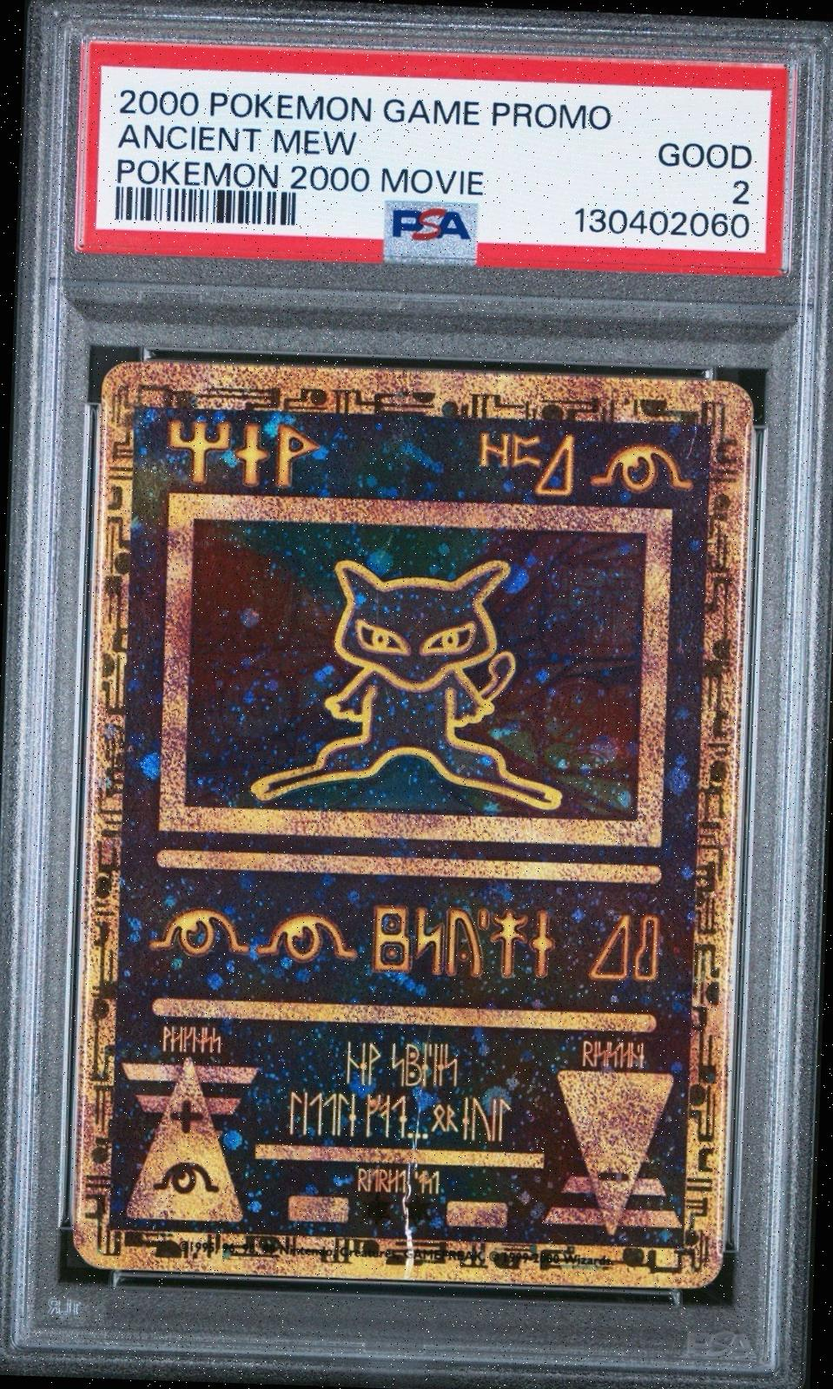card-2UtV: (71, 361, 753, 1290)
